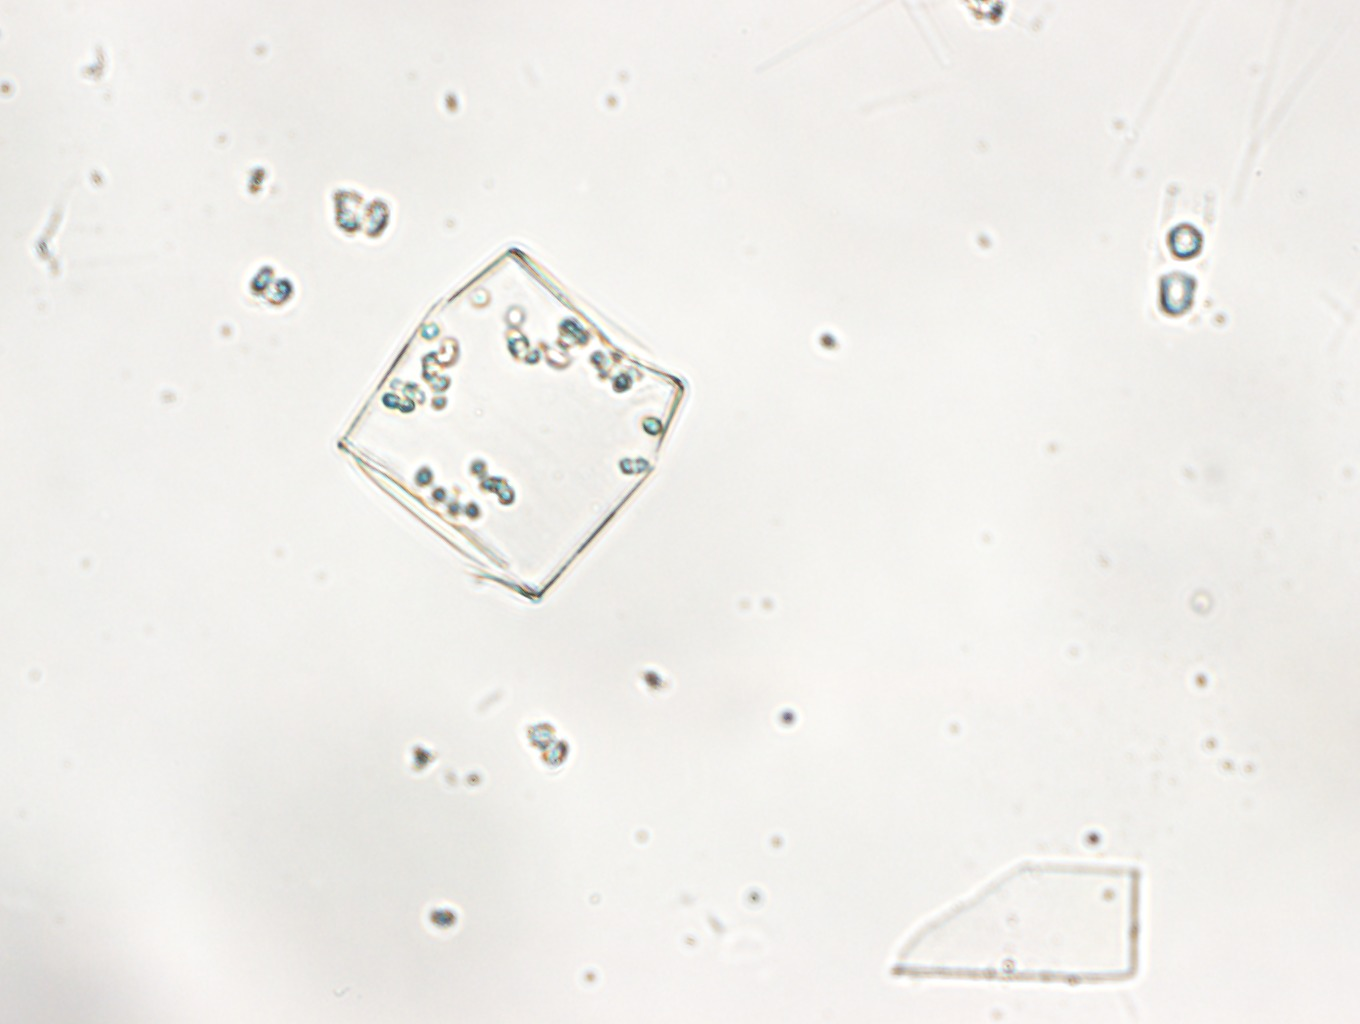guinardia flaccida: (329, 244, 692, 610)
